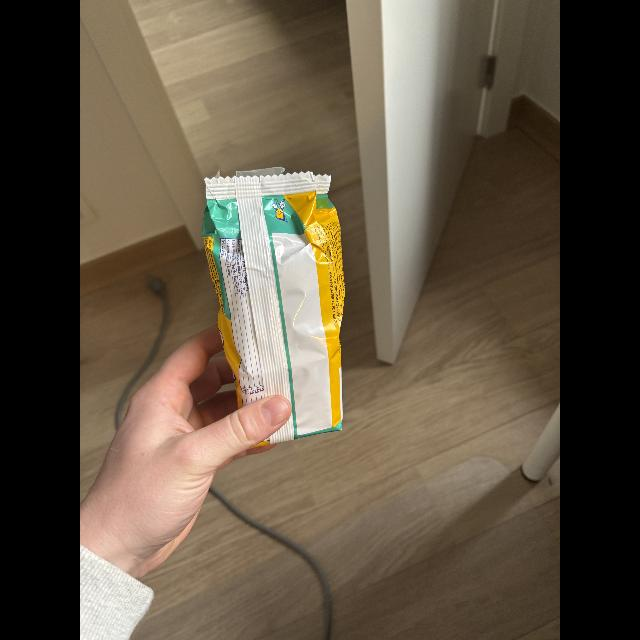Plastic: (195, 160, 358, 448)
